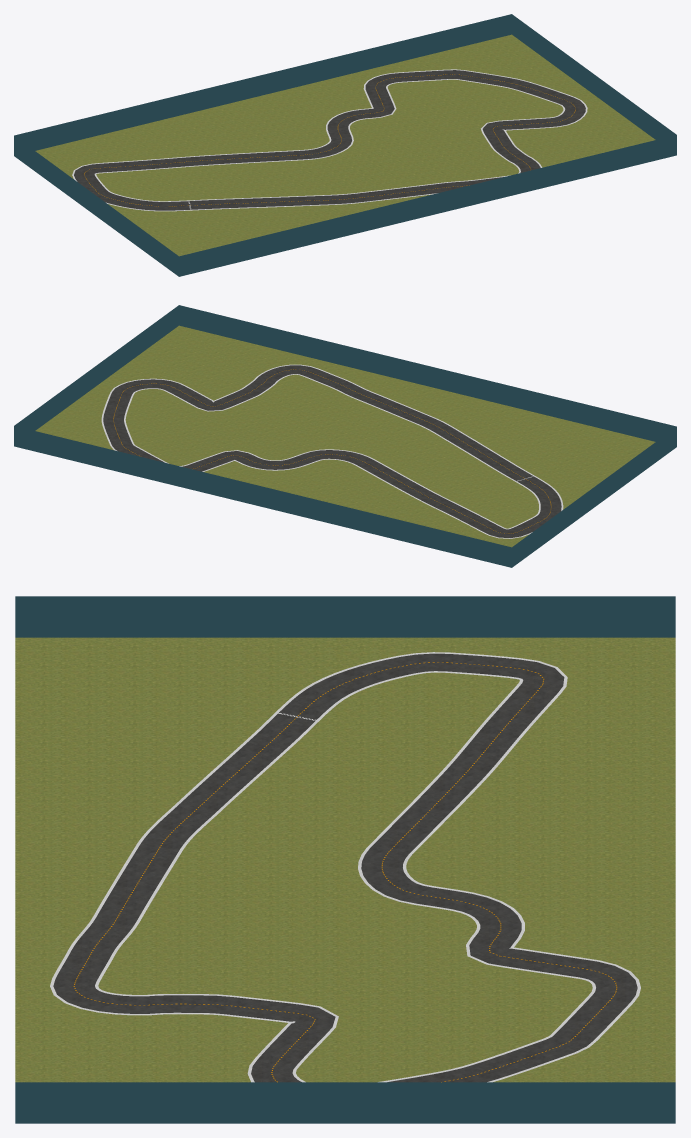
Rendered from 2022_october_pro_cw.dae.
The picture shows the model from 3 angles, top to bottom: view 1: azimuth 30°, elevation 25°; view 2: azimuth 150°, elevation 25°; view 3: azimuth 270°, elevation 25°; orthographic projection. The views are drawn at different scales.
Visible parts, largest first — view 1: field, wall, road, ol, il, cl; view 2: field, wall, road, ol, il, cl; view 3: field, wall, road, il, ol, cl.
Boxes of the visible parts, x1,y1,x2,y2 form: field: (35,34,655,256); wall: (14,14,676,276); road: (74,70,585,210); ol: (94,79,565,201); il: (72,69,587,211); cl: (84,74,575,206); field: (35,325,655,547); wall: (14,305,676,567); road: (103,365,561,538); ol: (124,374,540,529); il: (101,364,563,538); cl: (113,369,551,533); field: (15,637,675,1082); wall: (15,596,675,1123); road: (53,653,637,1082); il: (50,652,640,1082); ol: (95,671,595,1082); cl: (73,662,617,1082).
Bounding box in the file's own units: 25.35 × 14.56 × 1.
7 materials, 7 textured.
